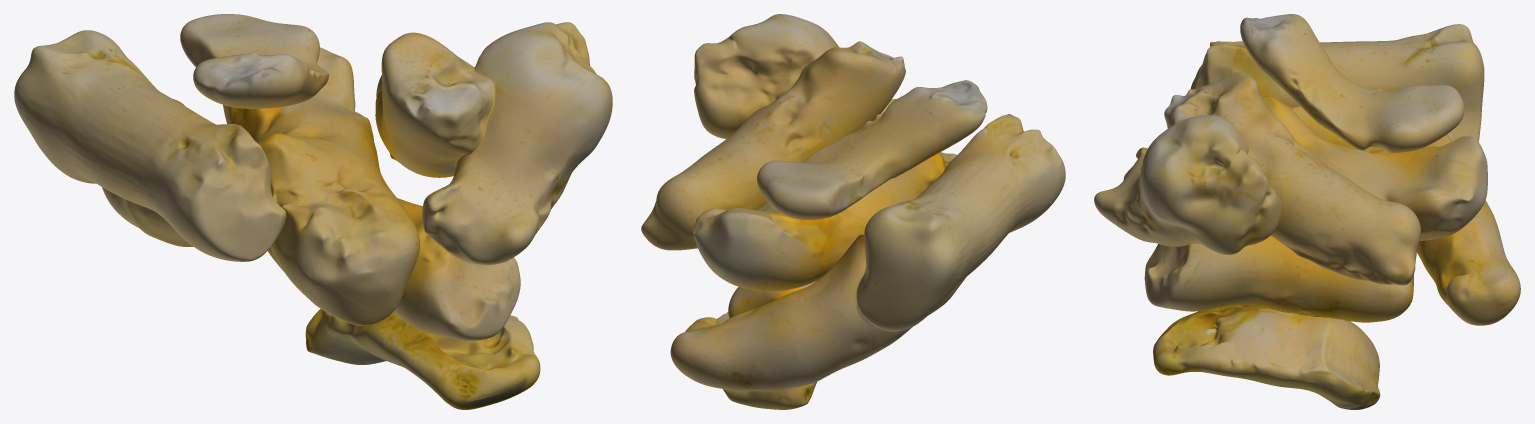
File: kerupuk_kulit.fbx
3 renders of one model, left to right at view 1: azimuth 30°, elevation 25°; view 2: azimuth 150°, elevation 25°; view 3: azimuth 270°, elevation 25°, orthographic. The views are drawn at different scales.
Visible parts, largest first — view 1: tripo_node_c1d653be; view 2: tripo_node_c1d653be; view 3: tripo_node_c1d653be.
Part boxes in pixels (x1,y1,x2,y2): tripo_node_c1d653be: (14, 14, 612, 409); tripo_node_c1d653be: (641, 14, 1065, 409); tripo_node_c1d653be: (1094, 14, 1520, 409).
Bounding box in the file's own units: 96.79 × 80.42 × 100.
1 material, 1 textured.
